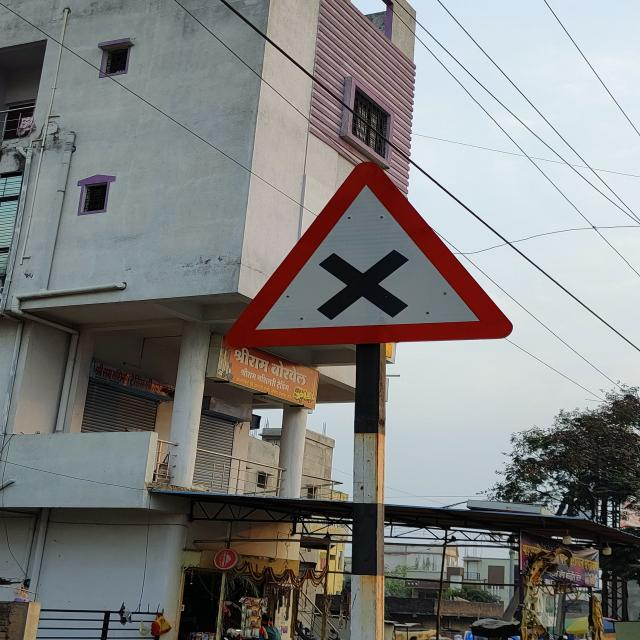cross_road: (224, 159, 514, 352)
